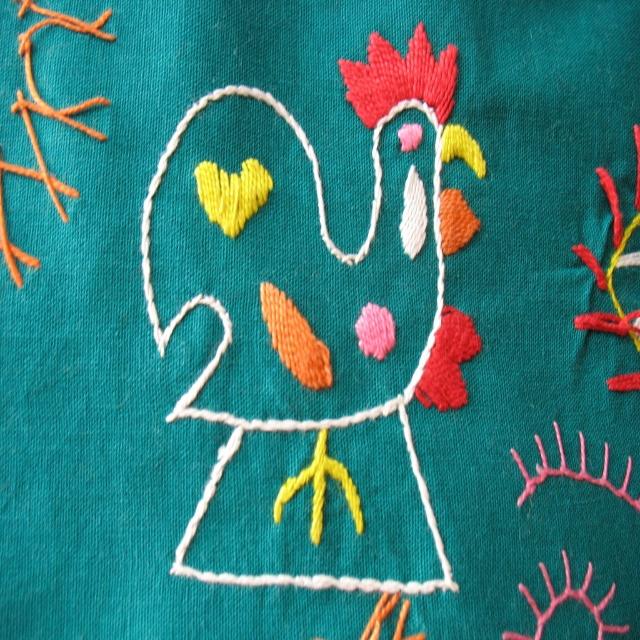Chicken: (141, 18, 483, 580)
